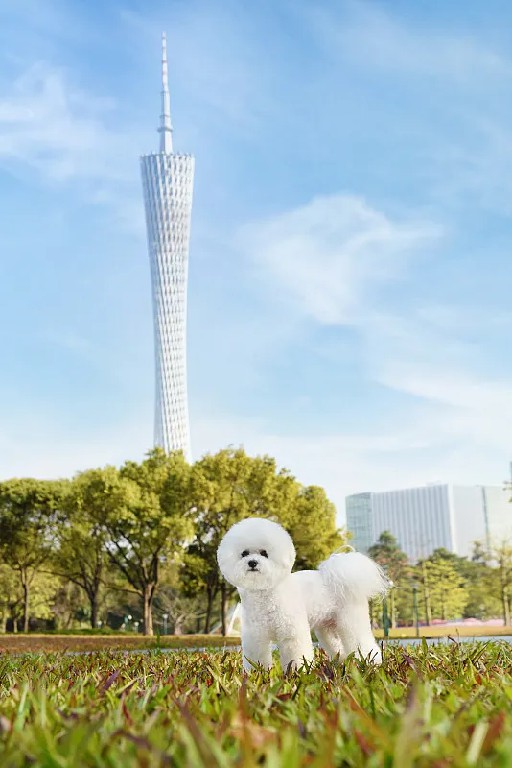Canton: (138, 33, 198, 467)
